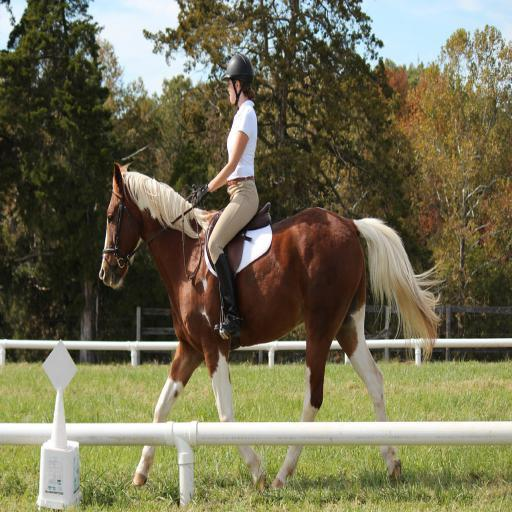Horse: (100, 160, 444, 494)
